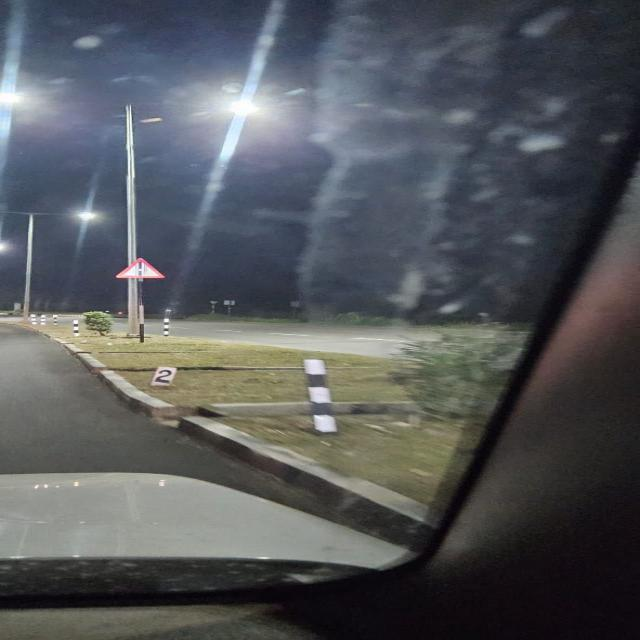gap_in_median: (114, 258, 167, 278)
